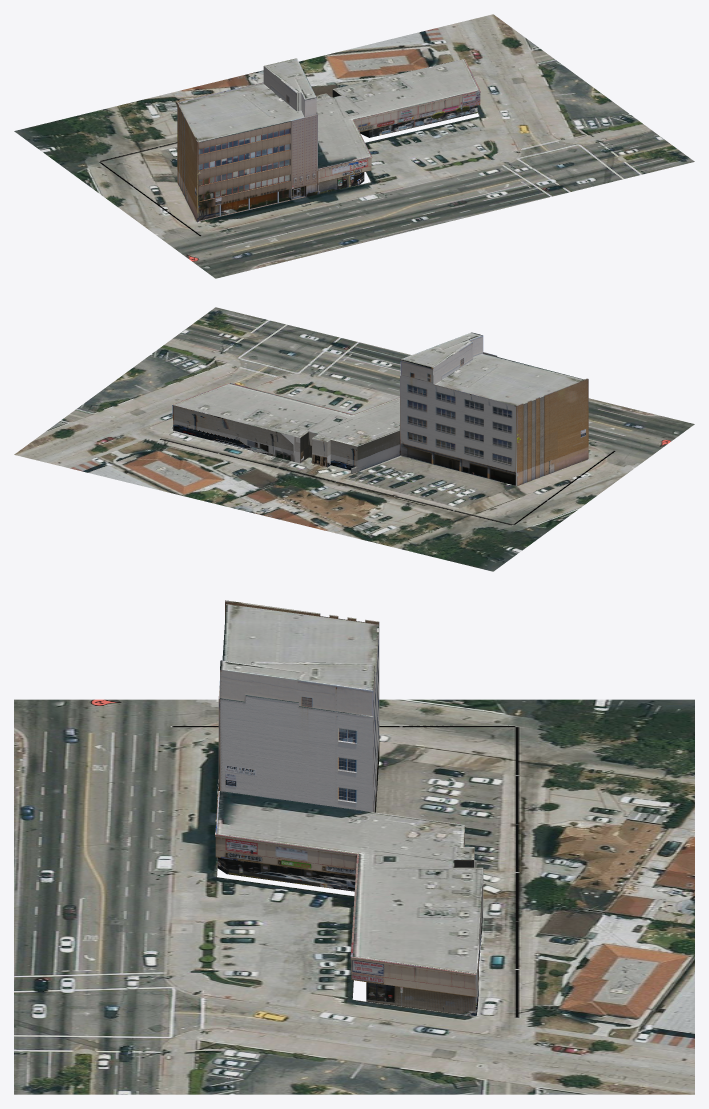
Rendered from building_wakeone.glb.
The picture shows the model from 3 angles, top to bottom: view 1: azimuth 30°, elevation 25°; view 2: azimuth 150°, elevation 25°; view 3: azimuth 270°, elevation 25°; orthographic projection. The views are drawn at different scales.
Visible parts, largest first — view 1: Object03_Material #25_0, Object03_Material #30_0, Object03_Material #27_0, Object03_Material #31_0, Object03_Material #29_0, Object03_Material #32_0; view 2: Object03_Material #25_0, Object03_Material #33_0, Object03_Material #31_0, Object03_Material #35_0, Object03_Material #34_0, Object03_Material #32_0, Object03_Material #36_0; view 3: Object03_Material #25_0, Object03_Material #32_0, Object03_Material #28_0, Object03_Material #26_0, Object03_Material #33_0.
Part boxes in pixels (bbox=[...]): Object03_Material #25_0: bbox=[14, 14, 694, 278]; Object03_Material #30_0: bbox=[197, 97, 317, 221]; Object03_Material #27_0: bbox=[353, 91, 480, 137]; Object03_Material #31_0: bbox=[177, 103, 197, 221]; Object03_Material #29_0: bbox=[317, 157, 372, 194]; Object03_Material #32_0: bbox=[263, 66, 304, 117]; Object03_Material #25_0: bbox=[14, 307, 694, 571]; Object03_Material #33_0: bbox=[400, 359, 516, 486]; Object03_Material #31_0: bbox=[517, 379, 588, 485]; Object03_Material #35_0: bbox=[173, 405, 357, 470]; Object03_Material #34_0: bbox=[352, 430, 399, 473]; Object03_Material #32_0: bbox=[400, 335, 483, 384]; Object03_Material #36_0: bbox=[312, 438, 327, 467]; Object03_Material #25_0: bbox=[14, 600, 694, 1094]; Object03_Material #32_0: bbox=[220, 660, 373, 812]; Object03_Material #28_0: bbox=[215, 834, 358, 891]; Object03_Material #26_0: bbox=[350, 956, 476, 1016]; Object03_Material #33_0: bbox=[373, 624, 379, 812].
Size of the model in its own units: 4398 by 849 by 3204.
16 materials, 16 textured.
